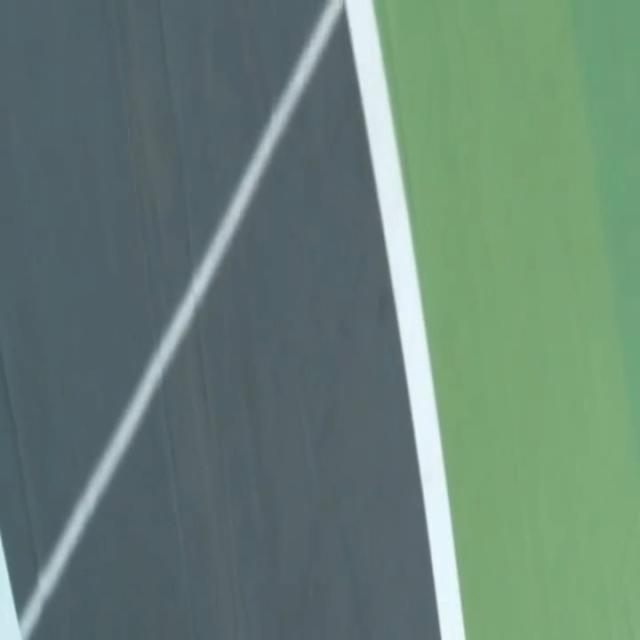center: (0, 533, 20, 639)
right: (345, 0, 464, 639)
